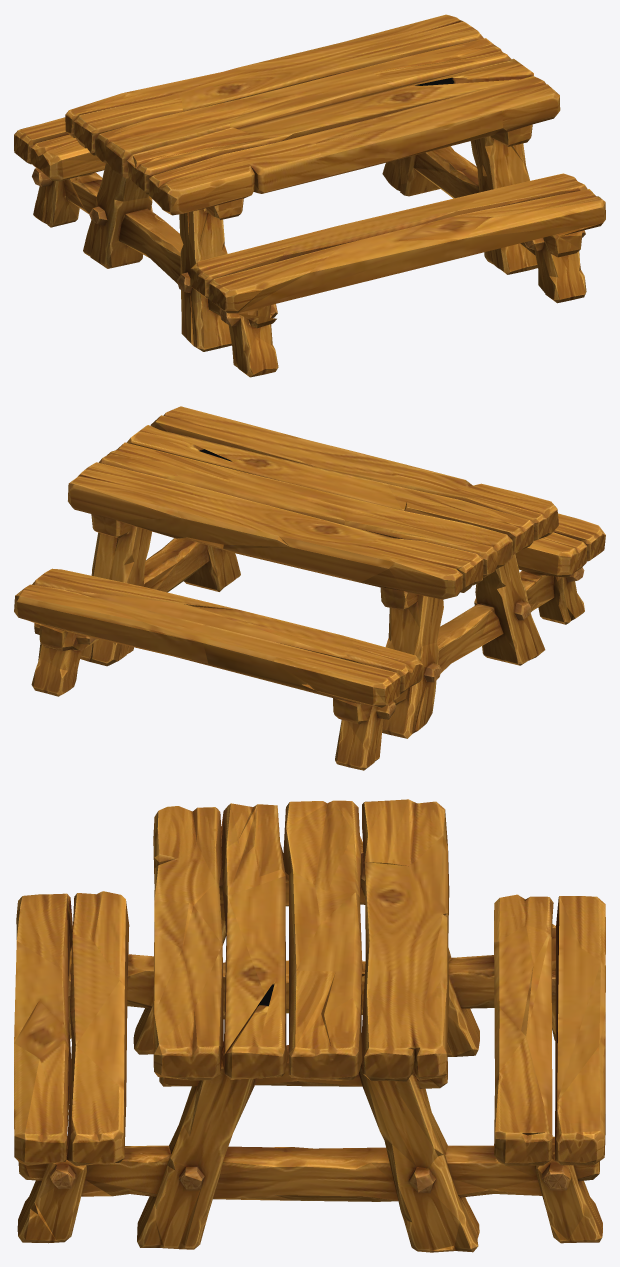
Rendered from tavern-table.hq.glb.
3 renders of one model, top to bottom at view 1: azimuth 30°, elevation 25°; view 2: azimuth 150°, elevation 25°; view 3: azimuth 270°, elevation 25°, orthographic. The views are drawn at different scales.
Parts seen in each view (by area): view 1: output_unwrapped; view 2: output_unwrapped; view 3: output_unwrapped.
Part boxes in pixels (x1,y1,x2,y2): output_unwrapped: (14,14,605,377); output_unwrapped: (14,406,605,770); output_unwrapped: (14,799,605,1252).
Bounding box in the file's own units: 1.89 × 0.7674 × 1.87.
1 material, 1 textured.
